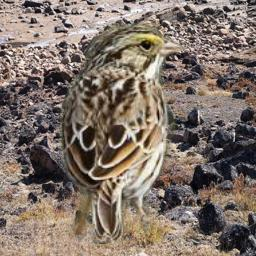Sparrow: (60, 23, 190, 244)
